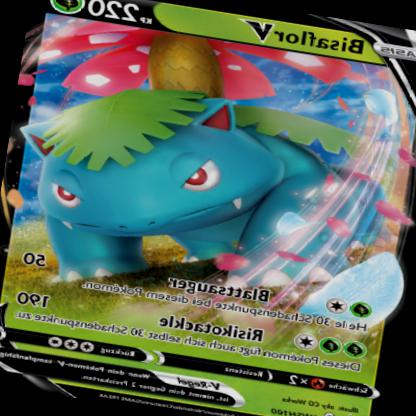Venusaur: (3, 16, 387, 330)
